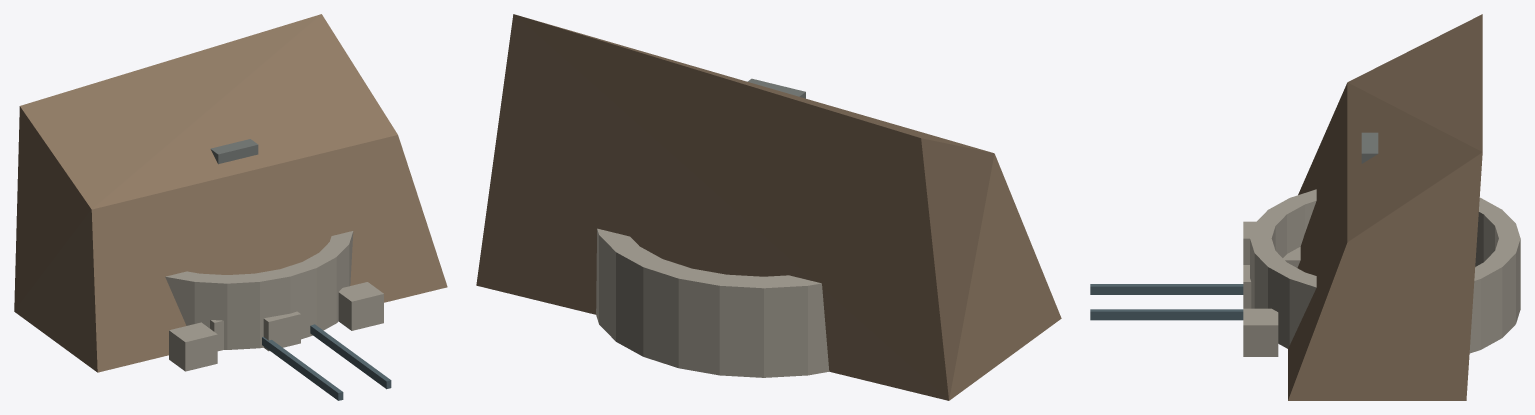
Rendered from ENV_CastleMount_Kit_LOD0.glb.
3 renders of one model, left to right at view 1: azimuth 30°, elevation 25°; view 2: azimuth 150°, elevation 25°; view 3: azimuth 270°, elevation 25°, orthographic. The views are drawn at different scales.
Visible parts, largest first — view 1: ENV_CastleMount_cut_face_LOD0, ENV_CastleMount_basin_segment_LOD0.016, ENV_CastleMount_cut_block_LOD0, ENV_CastleMount_cut_block_LOD0.004, ENV_CastleMount_basin_segment_LOD0.015, ENV_CastleMount_basin_segment_LOD0.018, ENV_CastleMount_basin_segment_LOD0.019, ENV_CastleMount_basin_segment_LOD0.017, ENV_CastleMount_cut_block_LOD0.002, ENV_CastleMount_basin_segment_LOD0.014, ENV_CastleMount_spur_rail_LOD0.001, ENV_CastleMount_spur_rail_LOD0 (+2 smaller); view 2: ENV_CastleMount_cut_face_LOD0, ENV_CastleMount_basin_segment_LOD0.007, ENV_CastleMount_basin_segment_LOD0.008, ENV_CastleMount_basin_segment_LOD0.006, ENV_CastleMount_basin_segment_LOD0.005, ENV_CastleMount_basin_segment_LOD0.004, ENV_CastleMount_basin_segment_LOD0.003, ENV_CastleMount_basin_segment_LOD0.009; view 3: ENV_CastleMount_cut_face_LOD0, ENV_CastleMount_spur_rail_LOD0.001, ENV_CastleMount_basin_segment_LOD0.003, ENV_CastleMount_cut_block_LOD0.004, ENV_CastleMount_spur_rail_LOD0, ENV_CastleMount_basin_segment_LOD0.020, ENV_CastleMount_basin_segment_LOD0.004, ENV_CastleMount_basin_segment_LOD0.021, ENV_CastleMount_basin_segment_LOD0.015, ENV_CastleMount_basin_segment_LOD0.019, ENV_CastleMount_basin_segment_LOD0.007, ENV_CastleMount_basin_segment_LOD0.016 (+7 smaller).
Part boxes in pixels (<box>): ENV_CastleMount_cut_face_LOD0: <box>14,14,447,372</box>; ENV_CastleMount_basin_segment_LOD0.016: <box>227,273,259,349</box>; ENV_CastleMount_cut_block_LOD0: <box>169,322,217,371</box>; ENV_CastleMount_cut_block_LOD0.004: <box>338,282,383,330</box>; ENV_CastleMount_basin_segment_LOD0.015: <box>194,273,227,349</box>; ENV_CastleMount_basin_segment_LOD0.018: <box>280,262,316,339</box>; ENV_CastleMount_basin_segment_LOD0.019: <box>303,252,336,330</box>; ENV_CastleMount_basin_segment_LOD0.017: <box>255,269,290,348</box>; ENV_CastleMount_cut_block_LOD0.002: <box>263,311,300,351</box>; ENV_CastleMount_basin_segment_LOD0.014: <box>165,271,199,325</box>; ENV_CastleMount_spur_rail_LOD0.001: <box>310,324,391,389</box>; ENV_CastleMount_spur_rail_LOD0: <box>262,337,343,400</box>; ENV_CastleMount_cut_face_LOD0: <box>476,14,1061,400</box>; ENV_CastleMount_basin_segment_LOD0.007: <box>719,274,763,377</box>; ENV_CastleMount_basin_segment_LOD0.008: <box>764,275,807,377</box>; ENV_CastleMount_basin_segment_LOD0.006: <box>678,268,726,375</box>; ENV_CastleMount_basin_segment_LOD0.005: <box>643,259,691,367</box>; ENV_CastleMount_basin_segment_LOD0.004: <box>616,246,661,356</box>; ENV_CastleMount_basin_segment_LOD0.003: <box>599,233,639,341</box>; ENV_CastleMount_basin_segment_LOD0.009: <box>804,279,829,375</box>; ENV_CastleMount_cut_face_LOD0: <box>1288,14,1482,400</box>; ENV_CastleMount_spur_rail_LOD0.001: <box>1090,309,1243,320</box>; ENV_CastleMount_basin_segment_LOD0.003: <box>1474,262,1502,349</box>; ENV_CastleMount_cut_block_LOD0.004: <box>1243,308,1278,356</box>; ENV_CastleMount_spur_rail_LOD0: <box>1090,284,1243,294</box>; ENV_CastleMount_basin_segment_LOD0.020: <box>1268,262,1304,348</box>; ENV_CastleMount_basin_segment_LOD0.004: <box>1484,251,1515,337</box>; ENV_CastleMount_basin_segment_LOD0.021: <box>1289,272,1316,344</box>; ENV_CastleMount_basin_segment_LOD0.015: <box>1268,198,1304,253</box>; ENV_CastleMount_basin_segment_LOD0.019: <box>1254,251,1286,308</box>; ENV_CastleMount_basin_segment_LOD0.007: <box>1483,210,1515,261</box>; ENV_CastleMount_basin_segment_LOD0.016: <box>1255,210,1286,257</box>.
Size of the model in its own units: 8 by 4.7 by 7.95.
